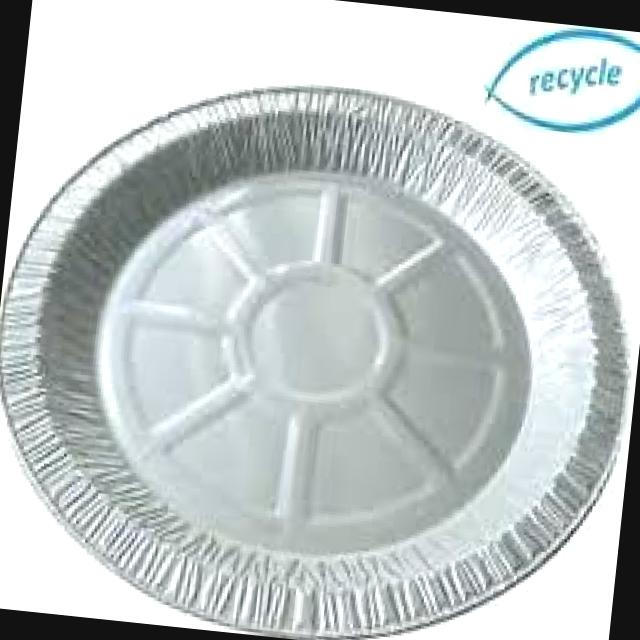metal: (0, 89, 627, 638)
